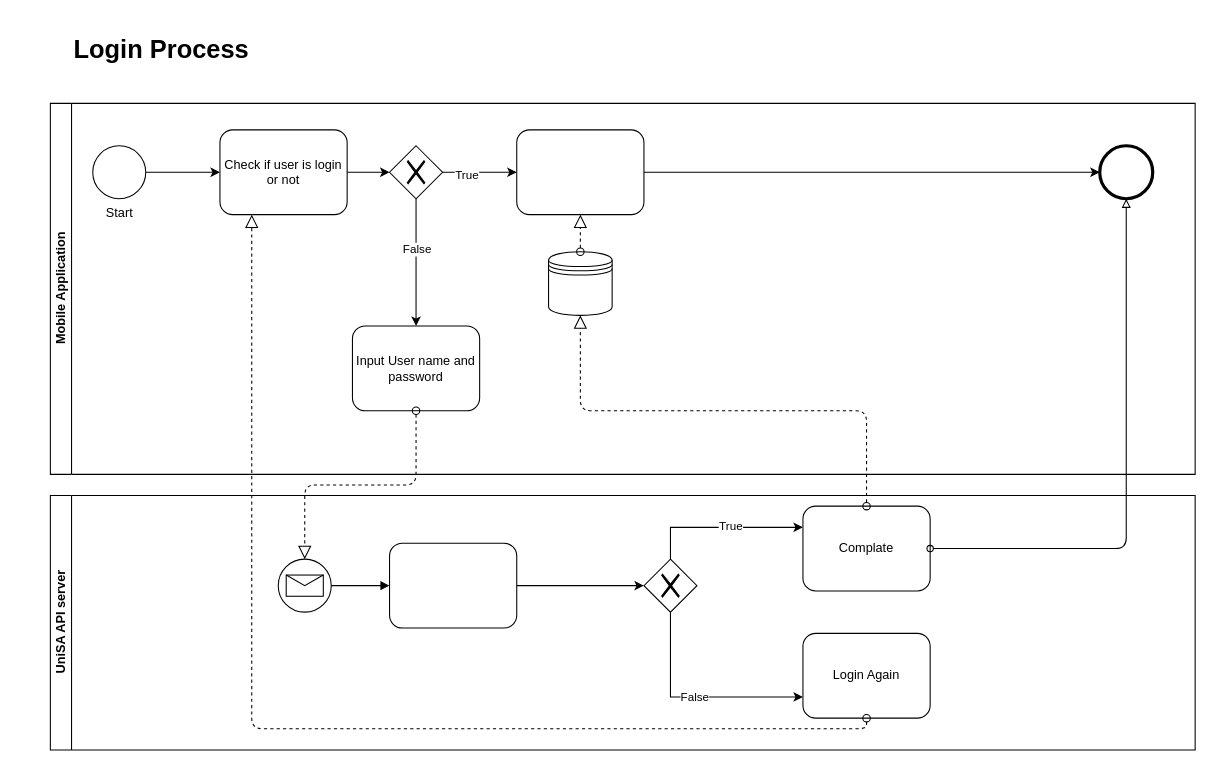
This 1214x768 diagram has some shape labels left out. The centre of each missing label's shape, as x and y in pixels:
Auto login: pixel 580 172
Login Succeed: pixel 1126 172
UniSA API Authentication: pixel 452 585
